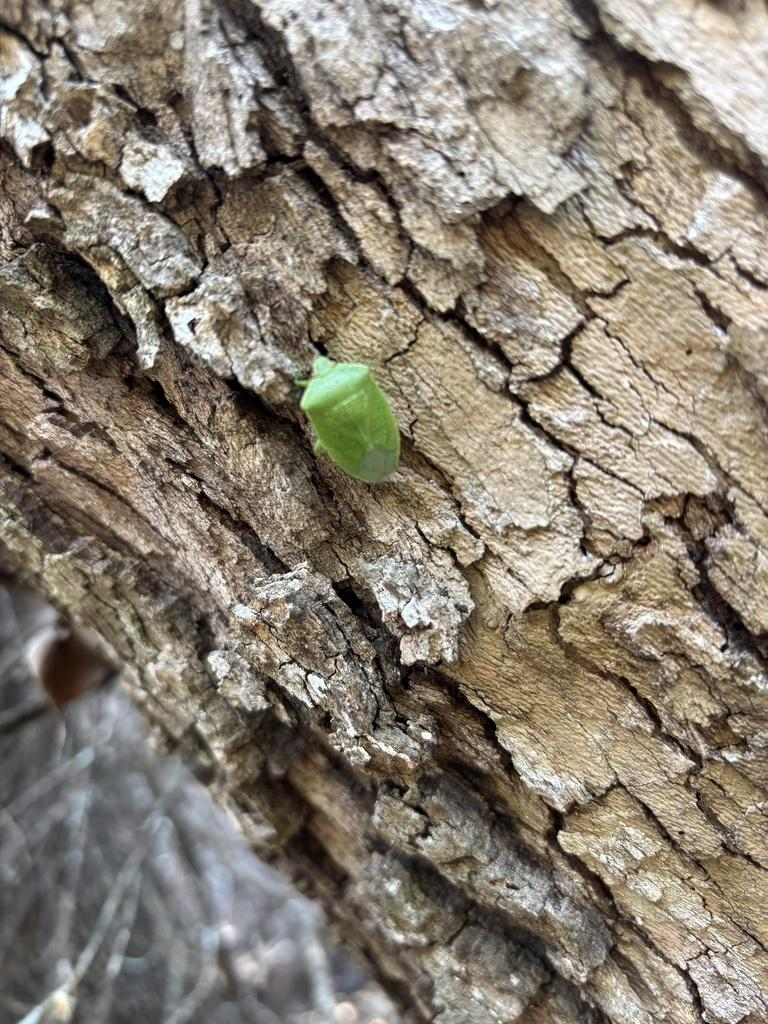stink_bugs: (260, 320, 453, 520)
